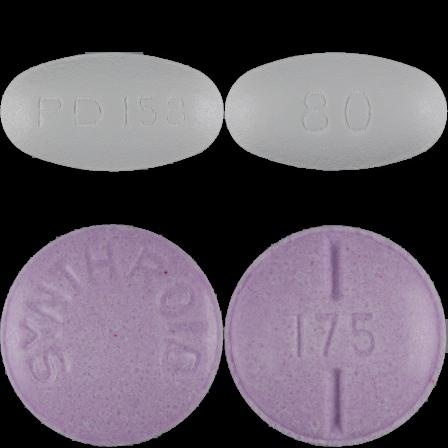67544-060: (0, 0, 224, 224)
